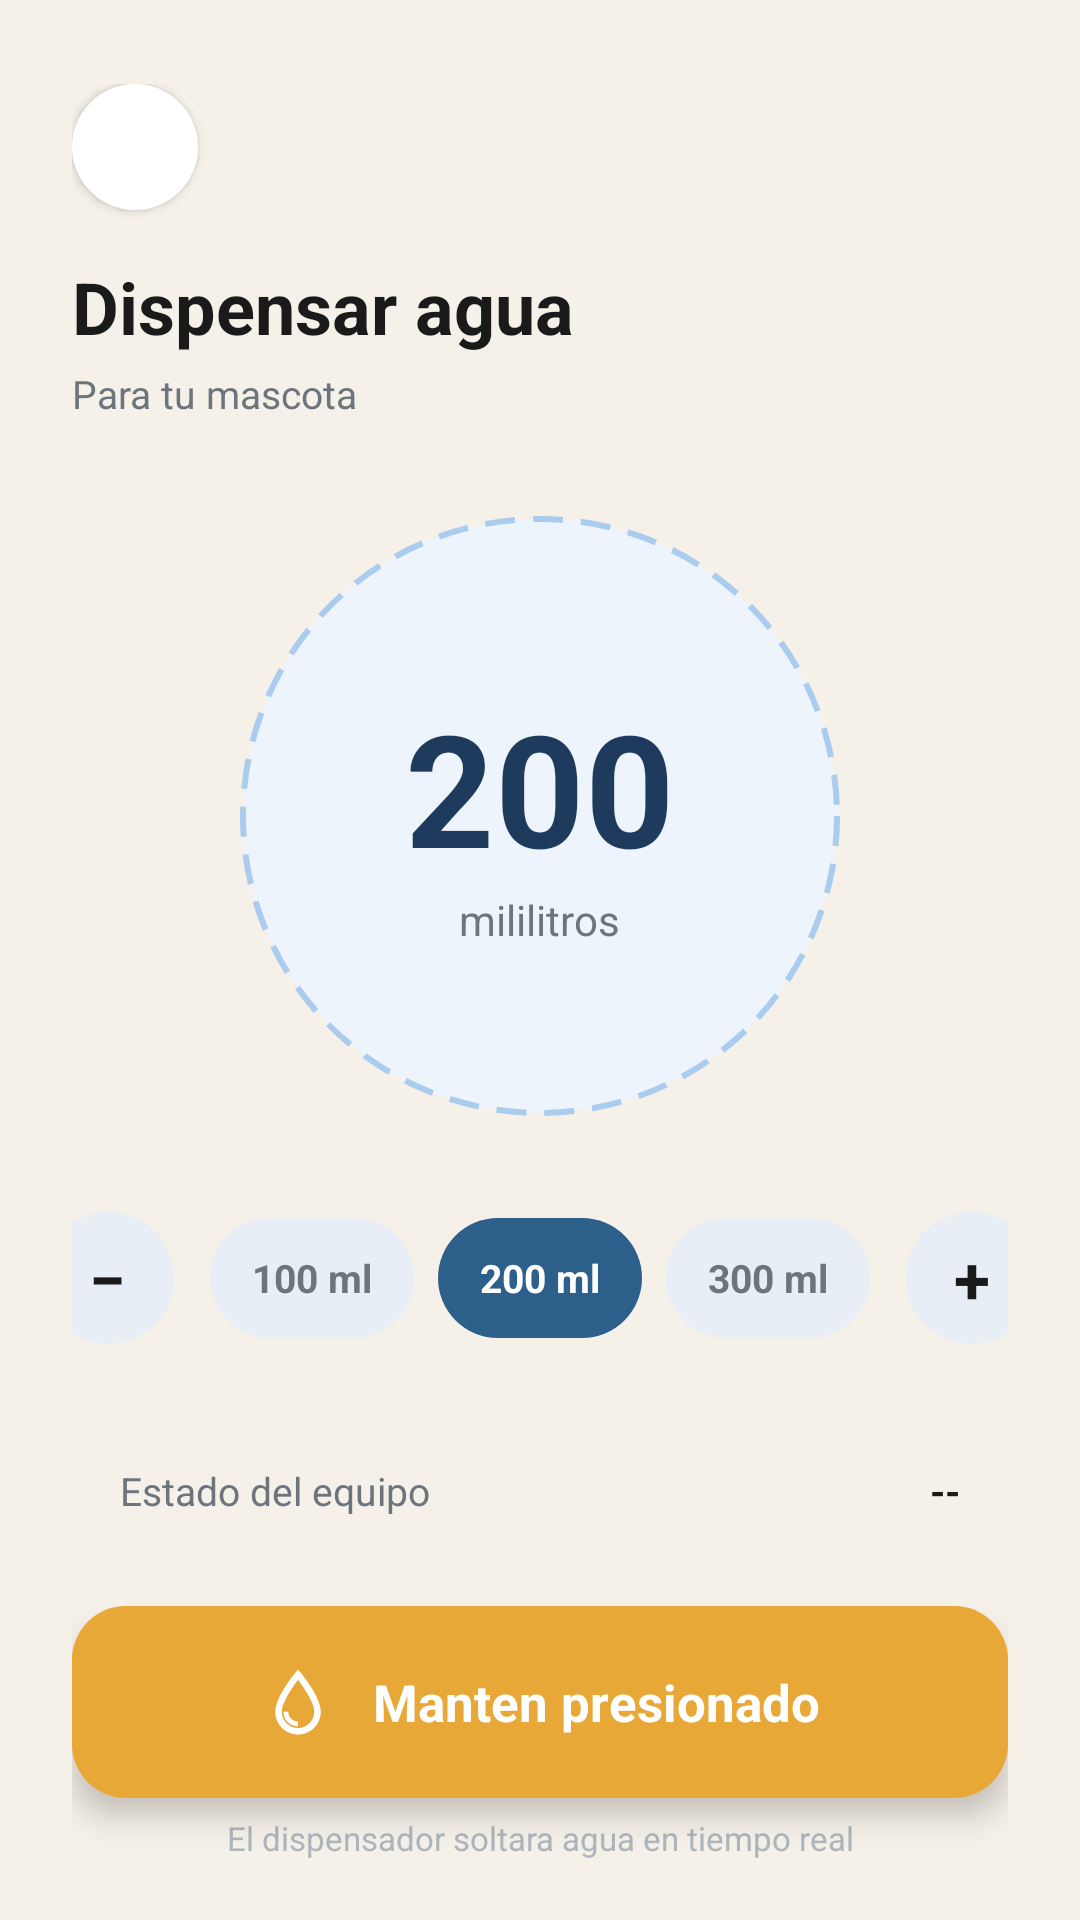

Point at icon controls on the screen. Image size 1080w x 1920h, points as (x=x, y=y).
water: (x=298, y=1702)
